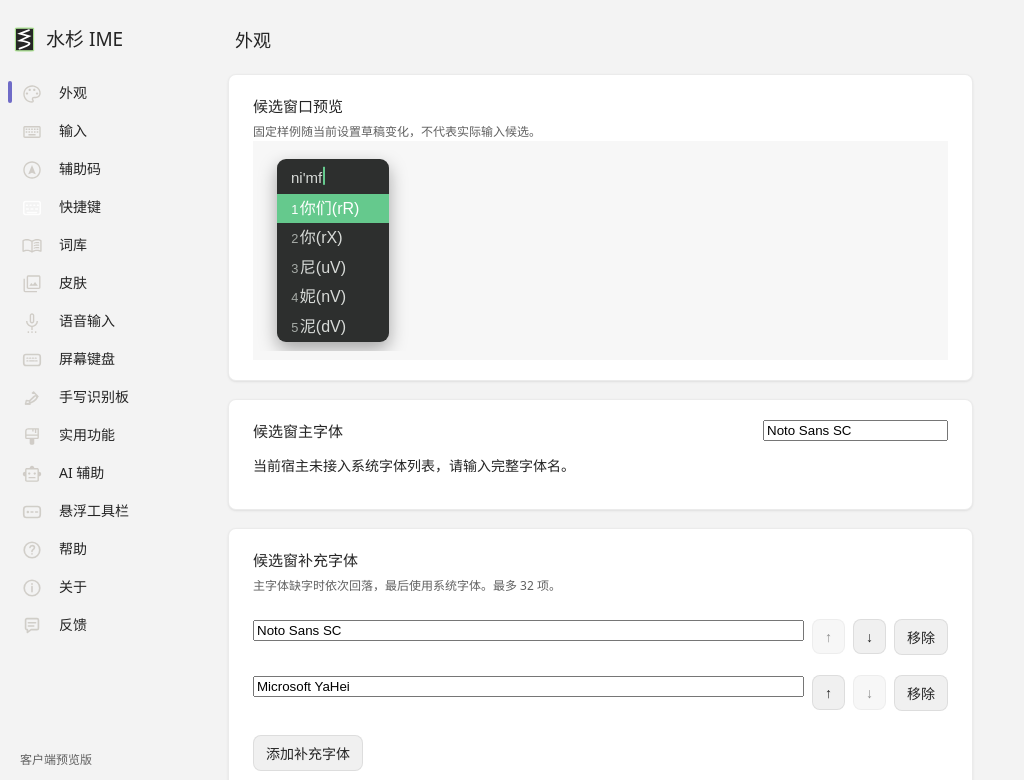
Test case: Android fuzzy-pinyin first enable seeds every rule once
This screenshot has width=1024, height=780.
Click the button "输入" at (54, 130), box top-left (8, 112), bottom-right (99, 148)
(page scrolled)
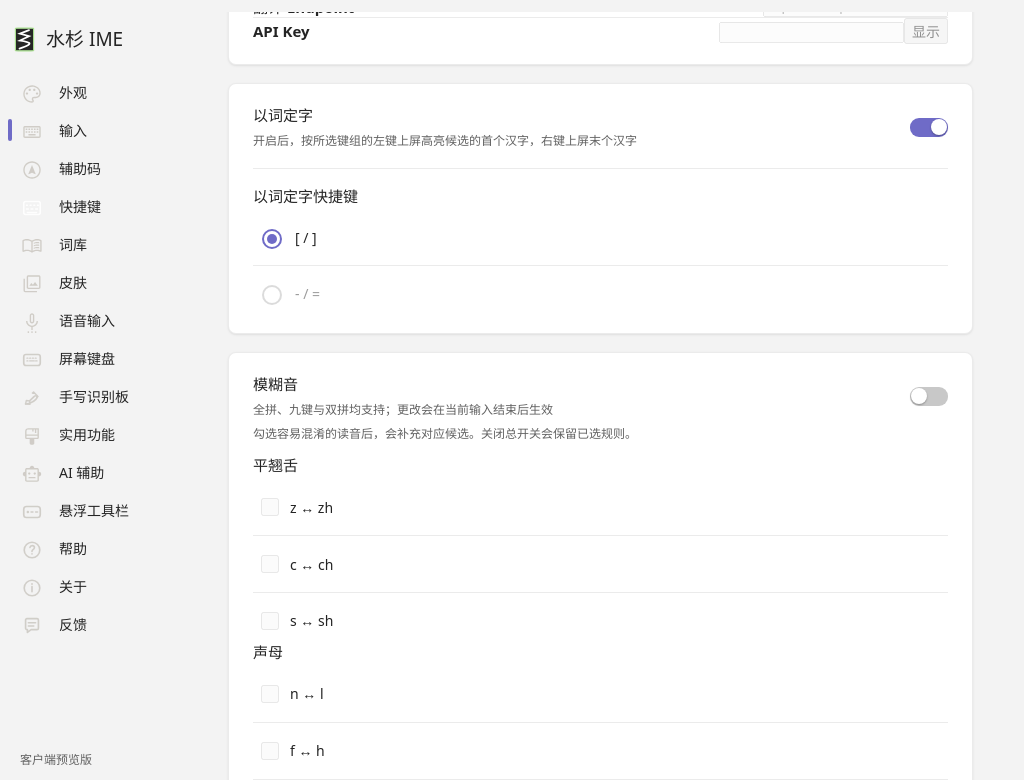
Click the checkbox named "启用模糊音" at (929, 396), box top-left (910, 387), bottom-right (948, 406)
(page scrolled)
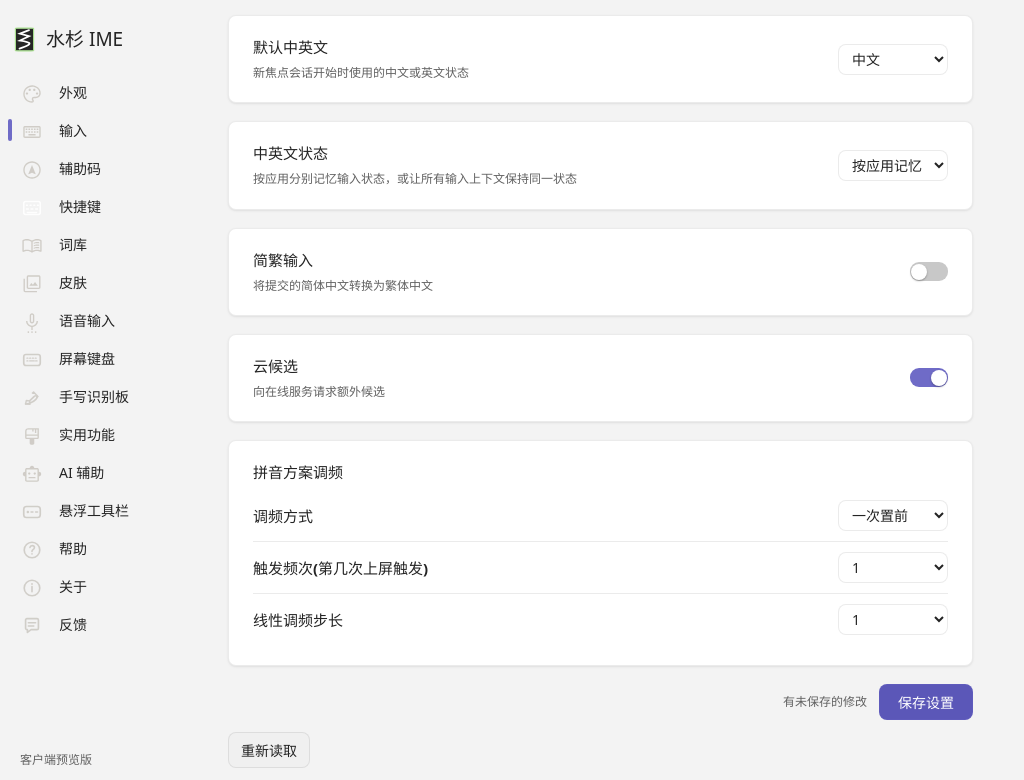
Click the button "保存设置" at (926, 702), box top-left (879, 684), bottom-right (973, 720)
(page scrolled)
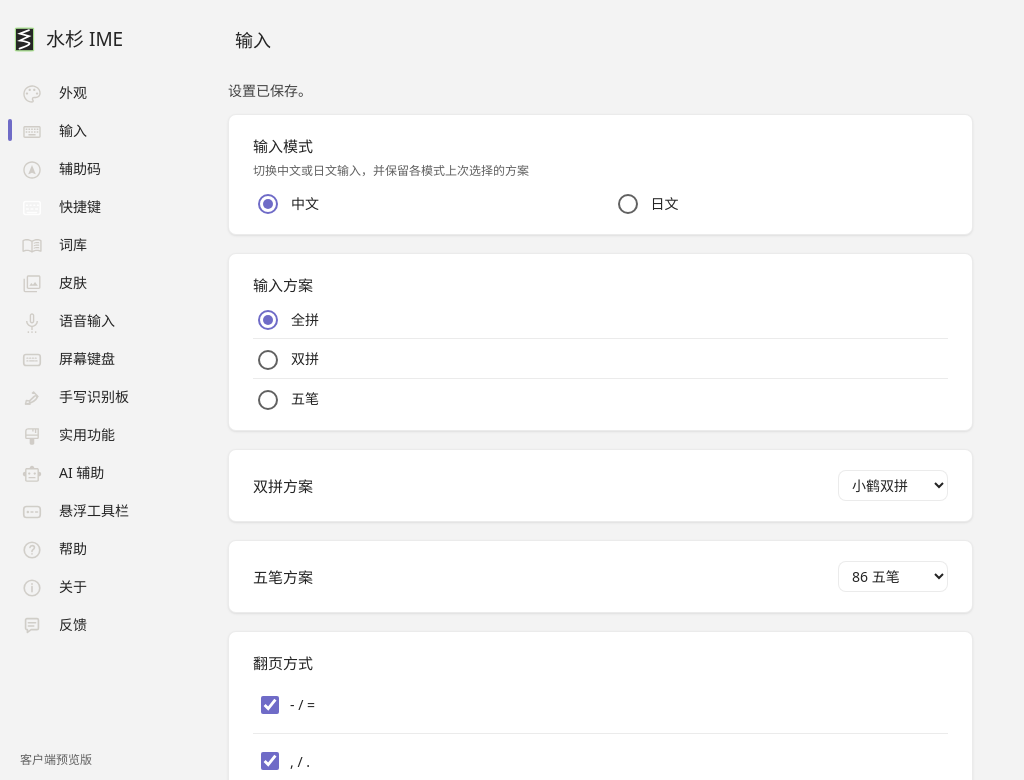
Expected: the text "设置已保存。" is shown, top-left (228, 81), bottom-right (312, 100)
